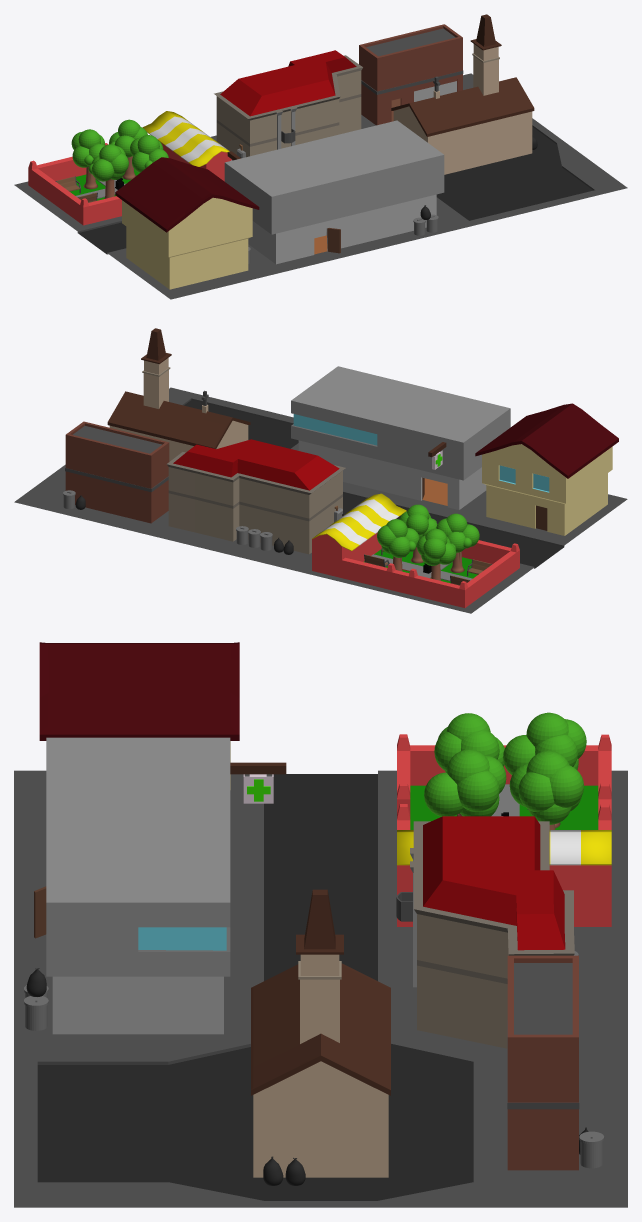
Rendered from real_world_1.1.fbx.
3 renders of one model, top to bottom at view 1: azimuth 30°, elevation 25°; view 2: azimuth 150°, elevation 25°; view 3: azimuth 270°, elevation 25°, orthographic. The views are drawn at different scales.
Visible parts, largest first — view 1: Clinic_roof, Terain, House, Apartament, Church, Apartament_2, Park, Clinic, Tree_3, Trashcan_7, Tree_2, Tree_1; view 2: Clinic_roof, Apartament, Terain, House, Park, Apartament_2, Church, Clinic, Tree_1, Trashcan_7, Tree_3, Tree_2 (+1 smaller); view 3: Terain, Clinic_roof, Church, Apartament, House, Apartament_2, Park, Clinic, Tree_2, Tree_1, Trashcan_7, Tree_3 (+2 smaller).
Part boxes in pixels (box(x1,y1,x2,y2)): Clinic_roof: box(224, 120, 444, 234); Terain: box(14, 73, 627, 299); House: box(115, 157, 259, 289); Apartament: box(214, 50, 362, 157); Church: box(391, 14, 534, 174); Apartament_2: box(359, 24, 463, 125); Park: box(28, 111, 231, 225); Clinic: box(248, 194, 436, 264); Tree_3: box(88, 144, 128, 198); Trashcan_7: box(71, 129, 105, 189); Tree_2: box(130, 135, 168, 172); Tree_1: box(109, 119, 147, 179); Clinic_roof: box(291, 366, 510, 480); Apartament: box(166, 439, 345, 554); Terain: box(14, 387, 627, 613); House: box(475, 403, 618, 535); Park: box(312, 493, 519, 607); Apartament_2: box(65, 421, 169, 523); Church: box(107, 328, 250, 461); Clinic: box(298, 440, 486, 509); Tree_1: box(377, 519, 419, 571); Trashcan_7: box(417, 528, 456, 580); Tree_3: box(436, 513, 479, 572); Tree_2: box(399, 504, 437, 563); Terain: box(14, 770, 627, 1207); Clinic_roof: box(46, 737, 286, 976); Church: box(251, 889, 390, 1177); Apartament: box(396, 816, 574, 1048); House: box(39, 642, 239, 789); Apartament_2: box(507, 955, 579, 1170); Park: box(397, 734, 611, 926); Clinic: box(34, 886, 223, 1034); Tree_2: box(424, 749, 506, 816); Tree_1: box(509, 750, 583, 829); Trashcan_7: box(503, 712, 586, 828); Tree_3: box(434, 713, 504, 816).
Bounding box in the file's own units: 2900 × 811 × 1722.
